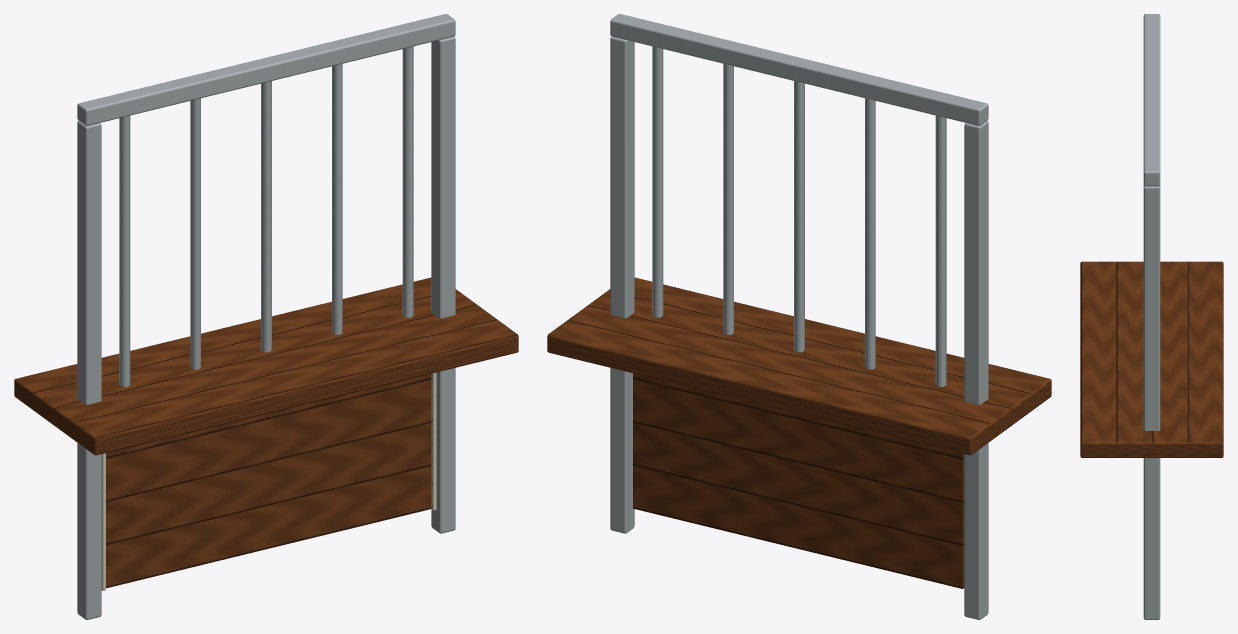
3 renders of one model, left to right at view 1: azimuth 30°, elevation 25°; view 2: azimuth 150°, elevation 25°; view 3: azimuth 270°, elevation 25°, orthographic. The views are drawn at different scales.
Visible parts, largest first — view 1: secure-exchange-window; view 2: secure-exchange-window; view 3: secure-exchange-window.
Part boxes in pixels (x1=…): secure-exchange-window: x1=14, y1=14, x2=518, y2=619; secure-exchange-window: x1=547, y1=14, x2=1051, y2=619; secure-exchange-window: x1=1080, y1=14, x2=1223, y2=619.
Bounding box in the file's own units: 1.8 × 2.07 × 0.5999.
Materials: 3 (1 with a texture image).
